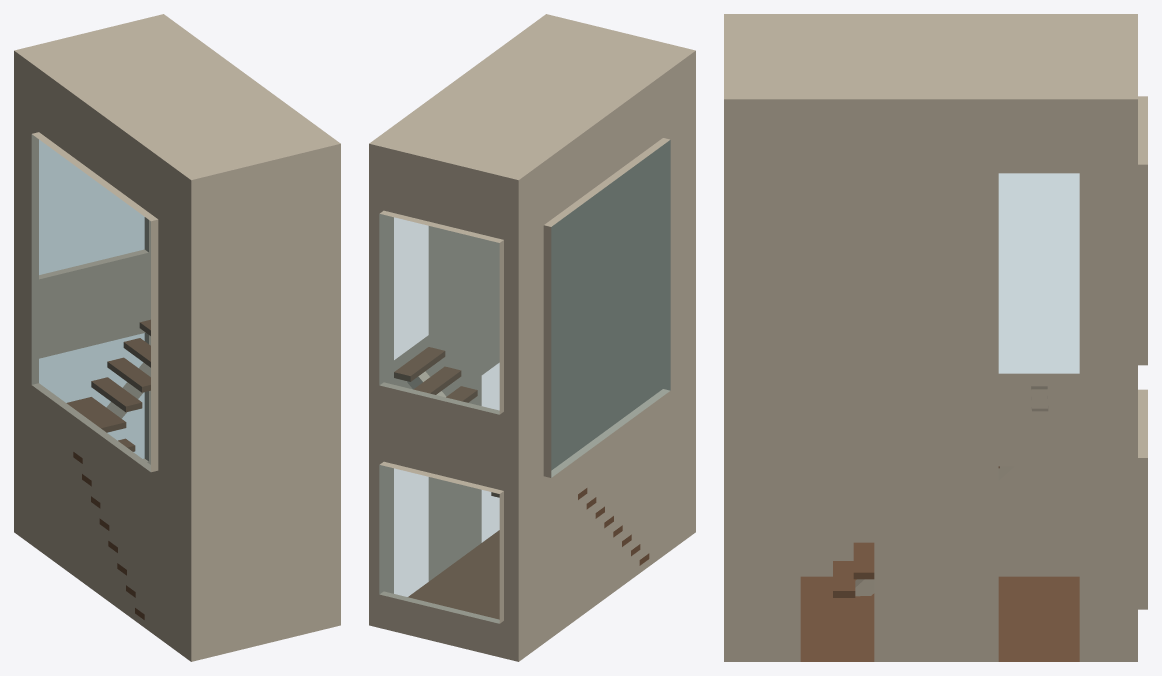
File: rikeri-multiroom.glb
3 views of the same model, side by side, from view 1: azimuth 30°, elevation 25°; view 2: azimuth 150°, elevation 25°; view 3: azimuth 270°, elevation 25° (orthographic). The views are drawn at different scales.
Visible parts, largest first — view 1: VRChat tutorial · two-storey building; view 2: VRChat tutorial · two-storey building; view 3: VRChat tutorial · two-storey building.
Part boxes in pixels (x1=…): VRChat tutorial · two-storey building: x1=14, y1=14, x2=340, y2=661; VRChat tutorial · two-storey building: x1=369, y1=14, x2=695, y2=661; VRChat tutorial · two-storey building: x1=724, y1=14, x2=1147, y2=661.
Size of the model in its own units: 2.17 by 6.18 by 4.2.
